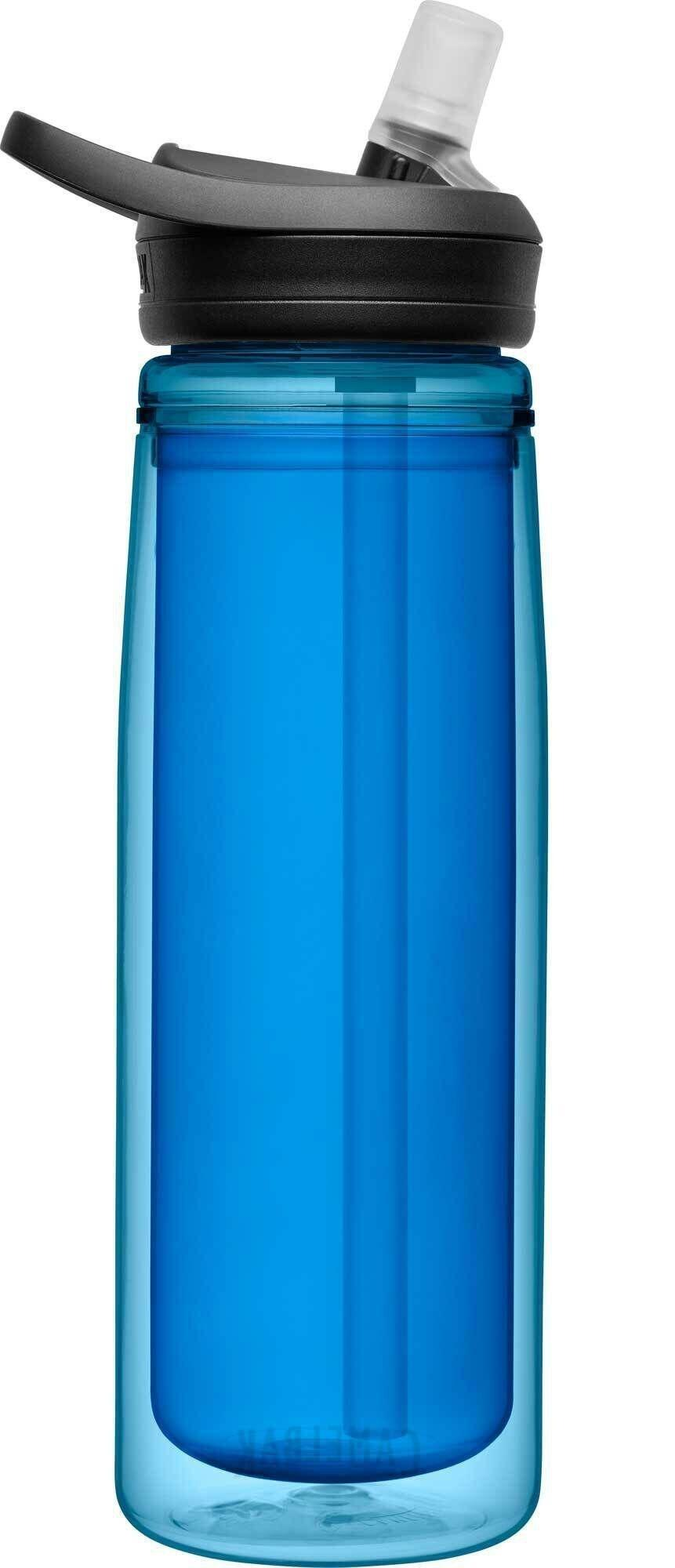gym bottle: (2, 0, 558, 1567)
